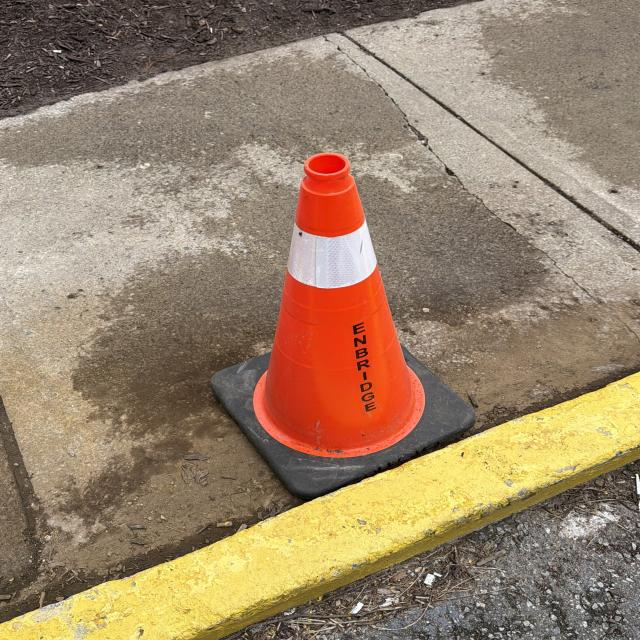Traffic Cone: (210, 152, 476, 498)
